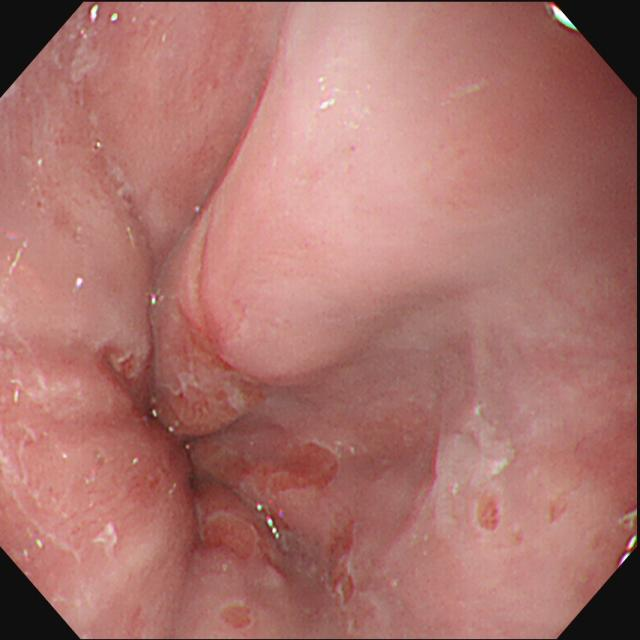A: (428, 405, 518, 551)
I: (78, 280, 364, 611)
U: (544, 4, 579, 35), (86, 4, 122, 27)
